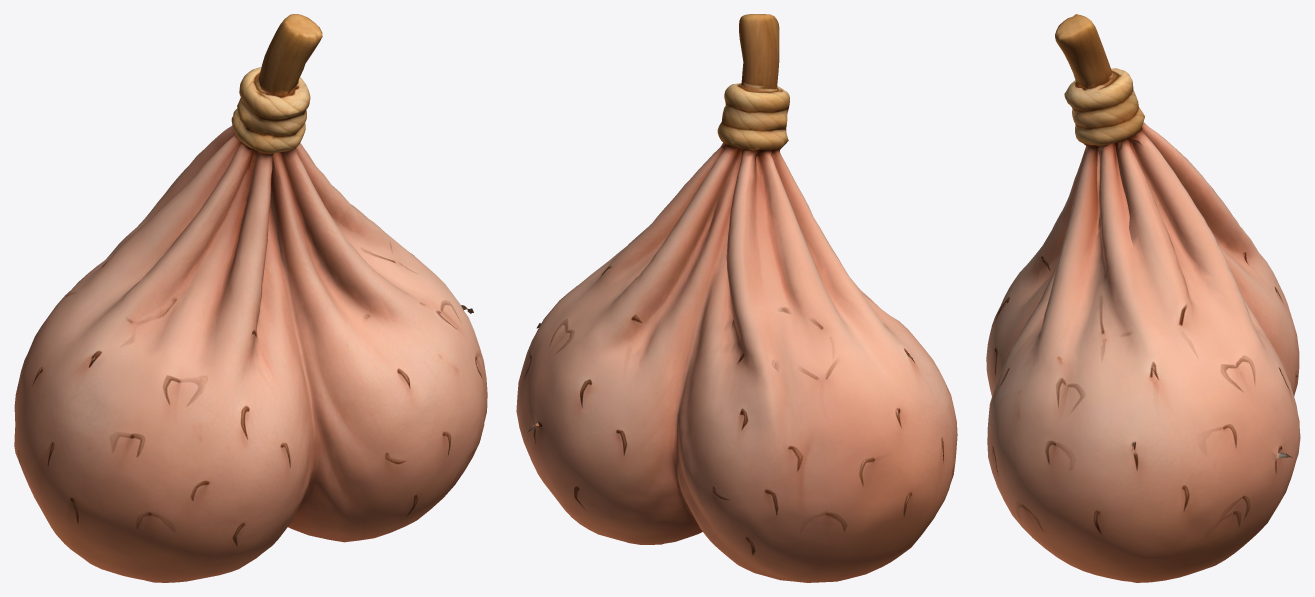
The model's file is kapok.glb.
The picture shows the model from 3 angles, left to right: view 1: azimuth 30°, elevation 25°; view 2: azimuth 150°, elevation 25°; view 3: azimuth 270°, elevation 25°; orthographic projection. The views are drawn at different scales.
Visible parts, largest first — view 1: tripo_node_9cc17ab7-5409-4e12-b8d6-9133415fff77; view 2: tripo_node_9cc17ab7-5409-4e12-b8d6-9133415fff77; view 3: tripo_node_9cc17ab7-5409-4e12-b8d6-9133415fff77.
Part boxes in pixels (bbox=[...]): tripo_node_9cc17ab7-5409-4e12-b8d6-9133415fff77: bbox=[14, 14, 487, 582]; tripo_node_9cc17ab7-5409-4e12-b8d6-9133415fff77: bbox=[516, 14, 957, 582]; tripo_node_9cc17ab7-5409-4e12-b8d6-9133415fff77: bbox=[986, 14, 1300, 582].
Bounding box in the file's own units: 0.8307 × 0.9955 × 0.5542.
1 material, 1 textured.
